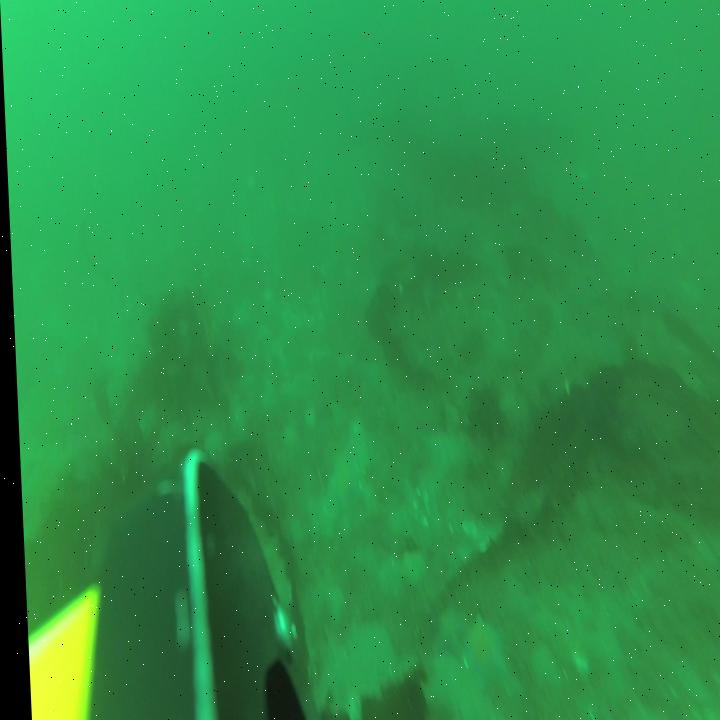scallop: (394, 546, 423, 588)
starfish: (457, 614, 499, 684), (425, 602, 461, 657), (321, 452, 356, 507)
